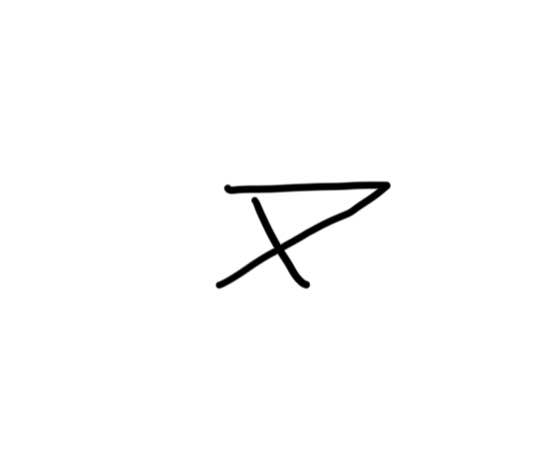nu: (204, 176, 395, 299)
